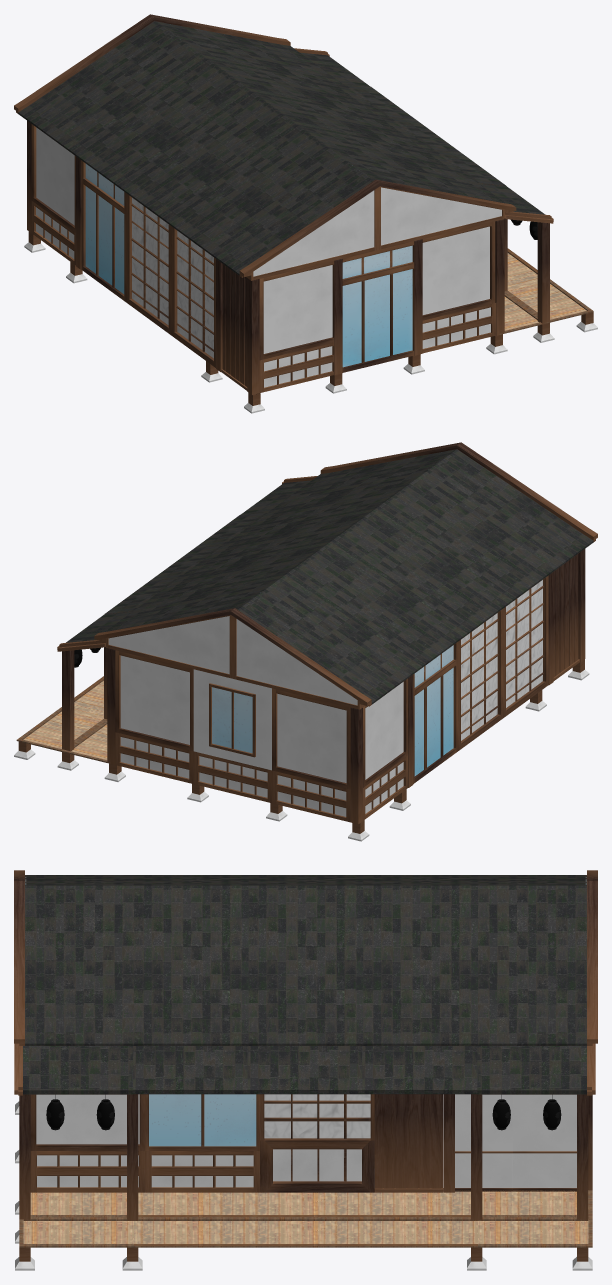
File: simple_japanese_house_1.glb
The picture shows the model from 3 angles, top to bottom: view 1: azimuth 30°, elevation 25°; view 2: azimuth 150°, elevation 25°; view 3: azimuth 270°, elevation 25°; orthographic projection. The views are drawn at different scales.
Parts seen in each view (by area): view 1: JPHouse1_low; view 2: JPHouse1_low; view 3: JPHouse1_low.
Part boxes in pixels (x1=…): JPHouse1_low: x1=14, y1=14, x2=597, y2=413; JPHouse1_low: x1=14, y1=442, x2=597, y2=841; JPHouse1_low: x1=14, y1=870, x2=597, y2=1270.
Size of the model in its own units: 7.07 by 3.82 by 7.95.
1 material, 1 textured.
